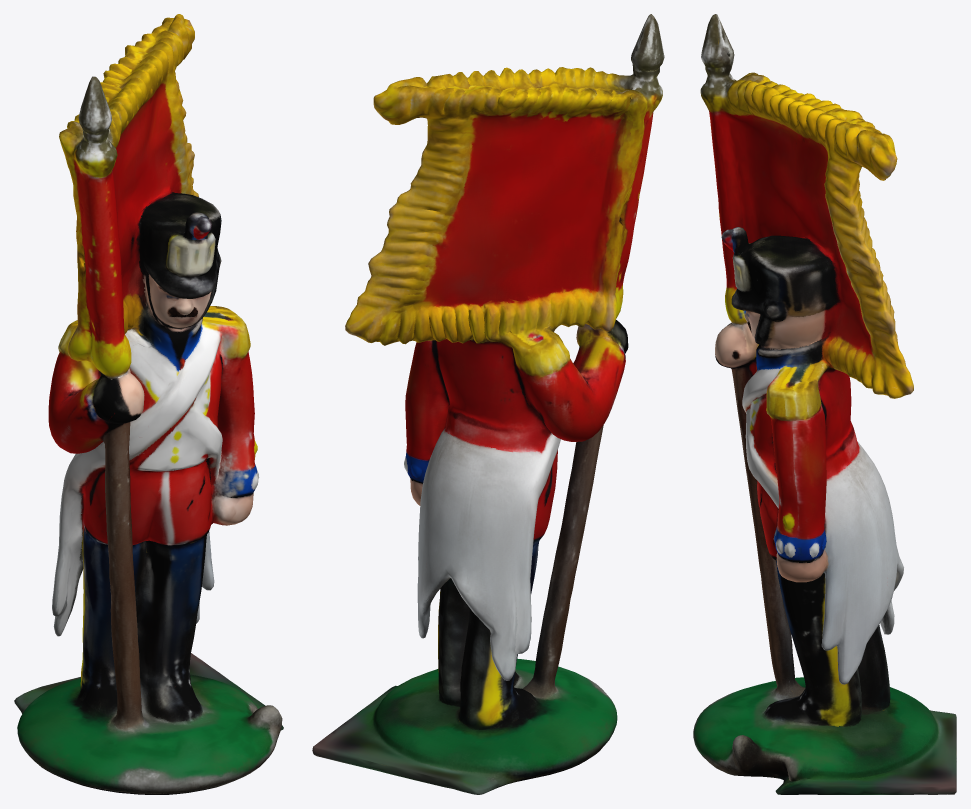
File: flag.glb
3 views of the same model, side by side, from view 1: azimuth 30°, elevation 25°; view 2: azimuth 150°, elevation 25°; view 3: azimuth 270°, elevation 25° (orthographic). The views are drawn at different scales.
Visible parts, largest first — view 1: world; view 2: world; view 3: world.
Part boxes in pixels (x1=…): world: x1=14, y1=14, x2=283, y2=794; world: x1=312, y1=14, x2=664, y2=794; world: x1=693, y1=14, x2=956, y2=794.
Bounding box in the file's own units: 0.3423 × 1 × 0.3523.
Materials: 1 (1 with a texture image).
